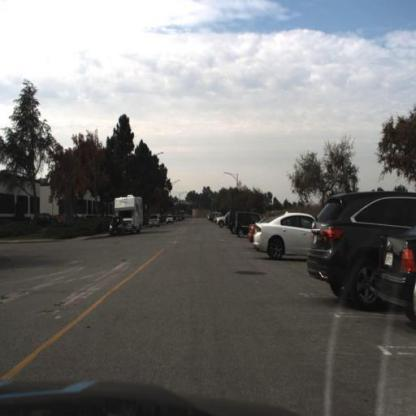car: (308, 189, 381, 305), (377, 215, 416, 326), (252, 211, 313, 266), (111, 215, 130, 239)
truck: (119, 197, 145, 232)
